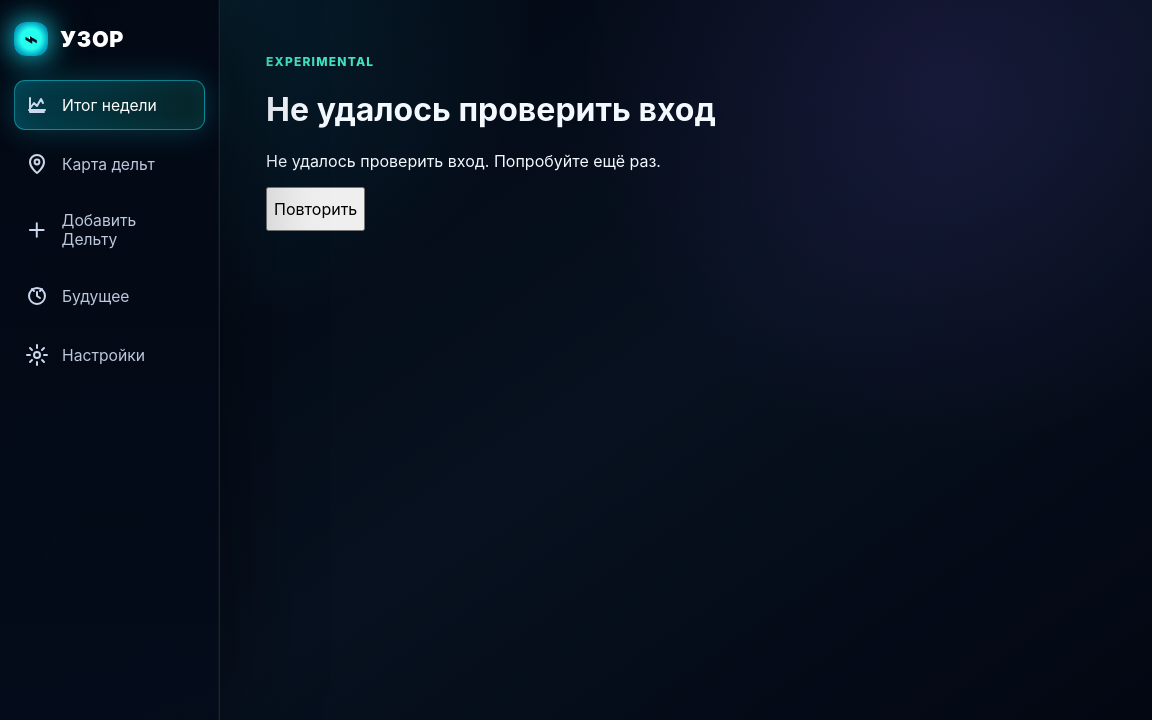
ForecastResolverPage › retries a failed auth preflight without exposing raw errors
expect the message reads "Не удалось проверить вход. Попробуйте ещё раз.": met, box [266, 151, 661, 171]
Click the button "Повторить": {"x": 316, "y": 209} [266, 187, 365, 231]
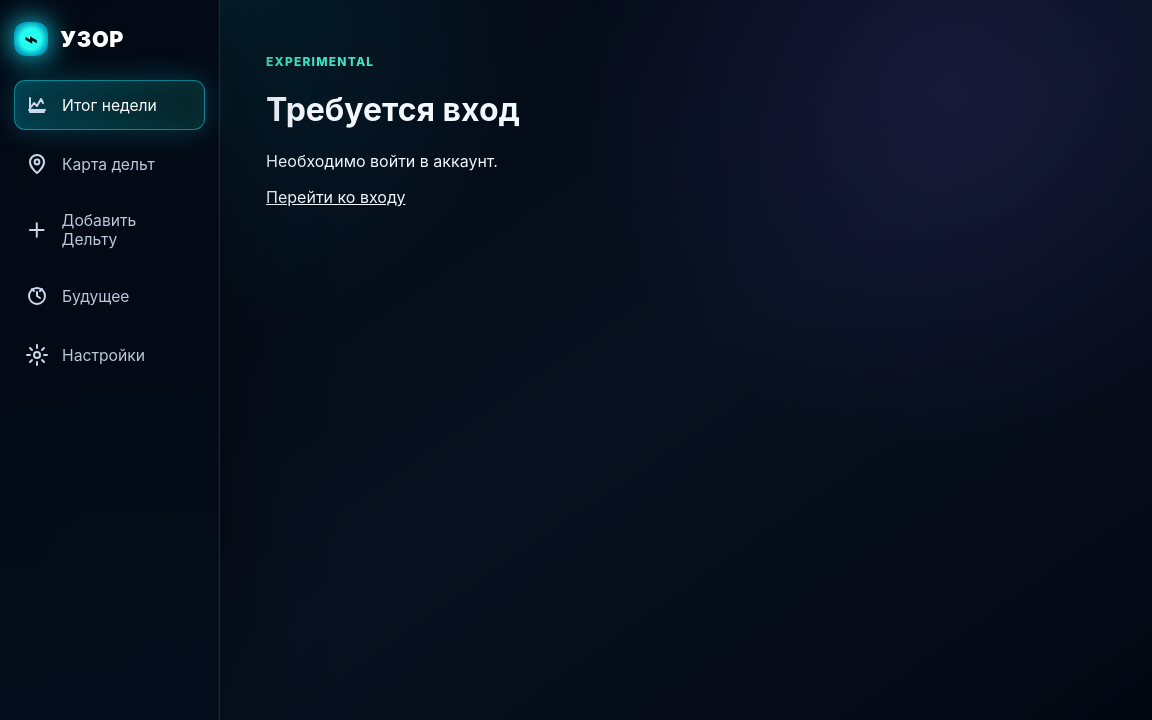
expect the text "Необходимо войти в аккаунт." is shown: met, box [266, 151, 498, 171]
